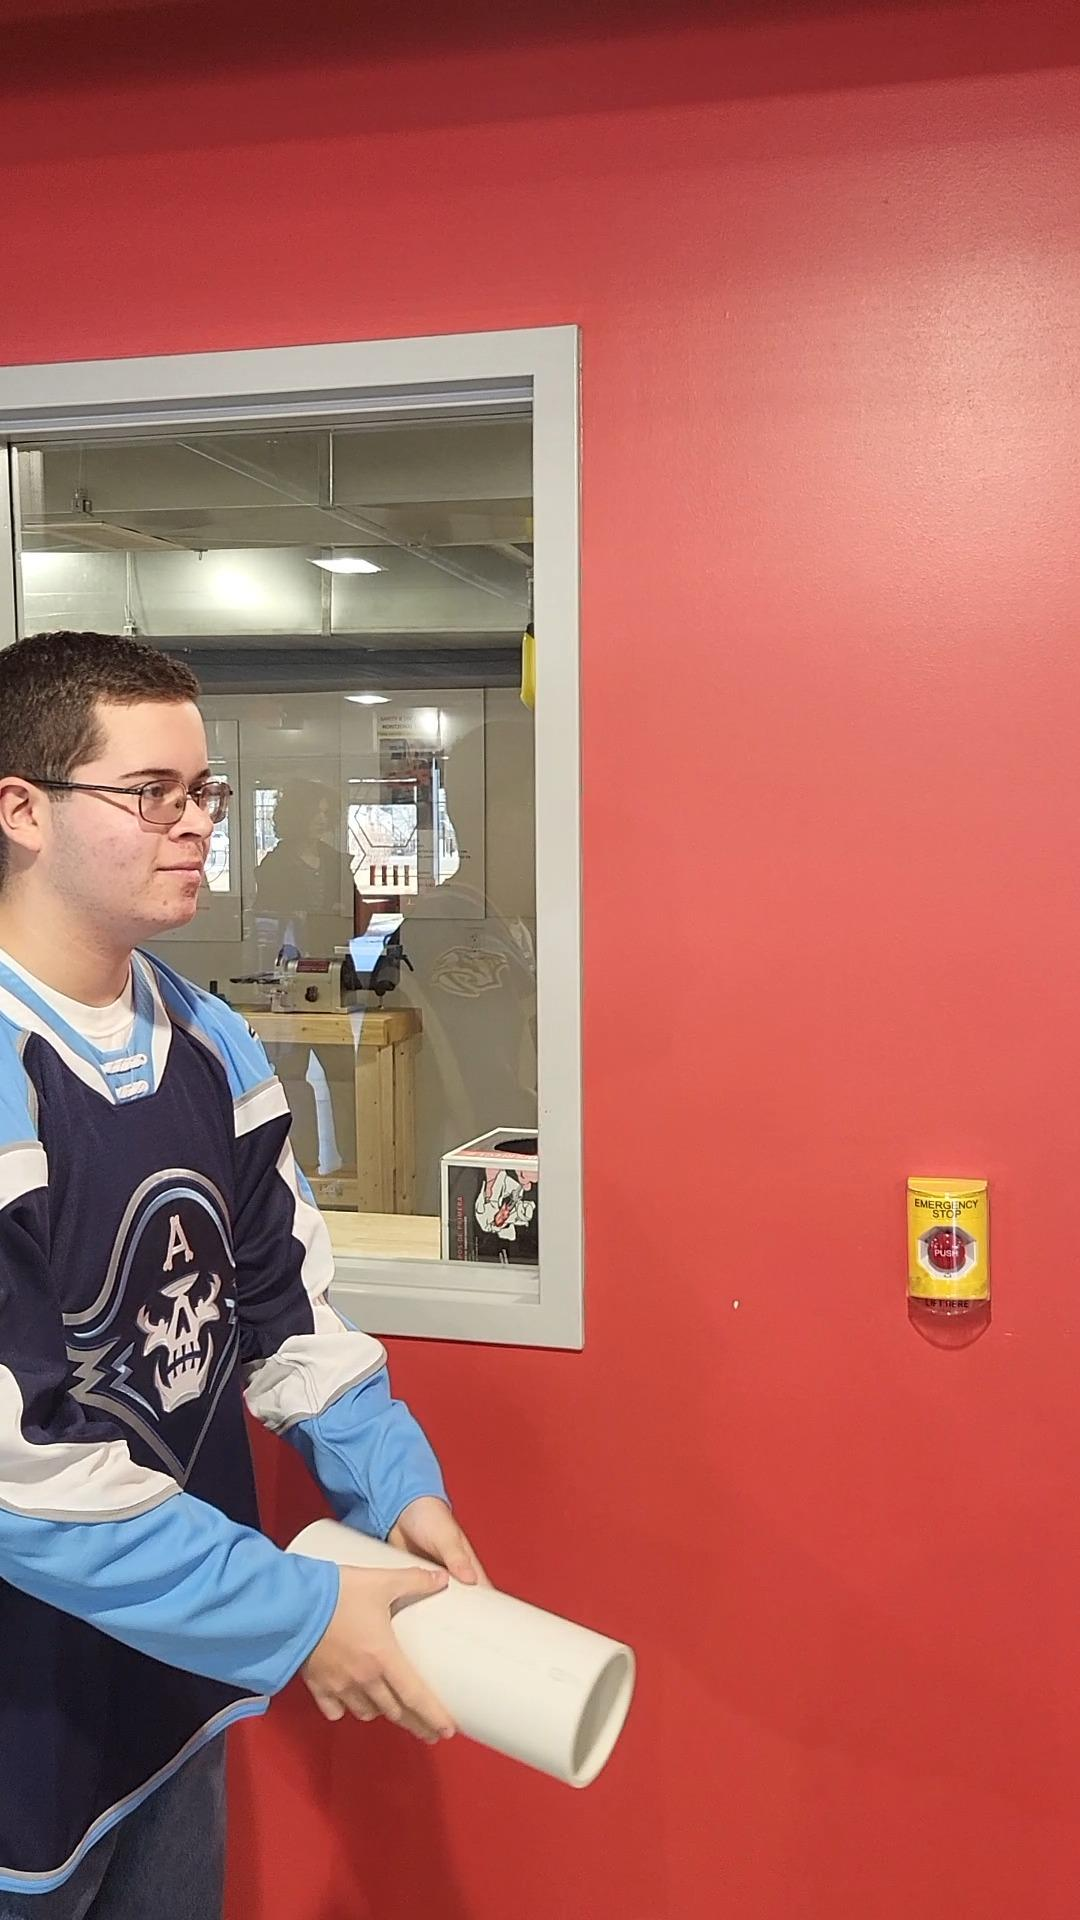coral: (266, 1524, 640, 1780)
